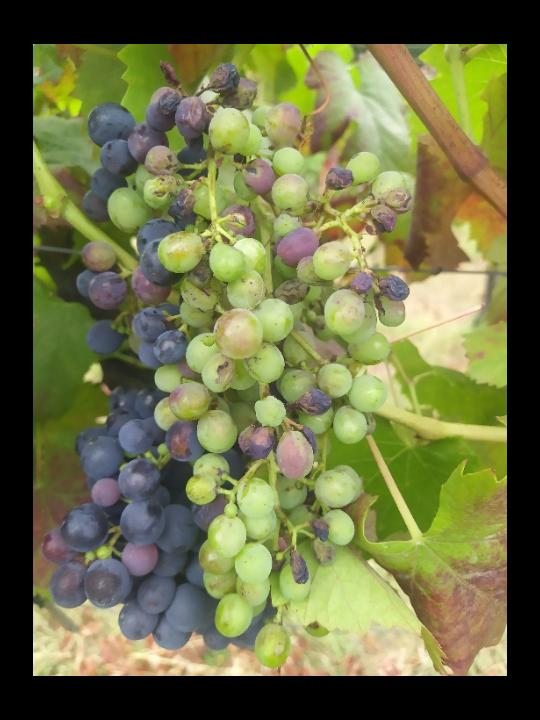grape: (38, 61, 420, 673)
